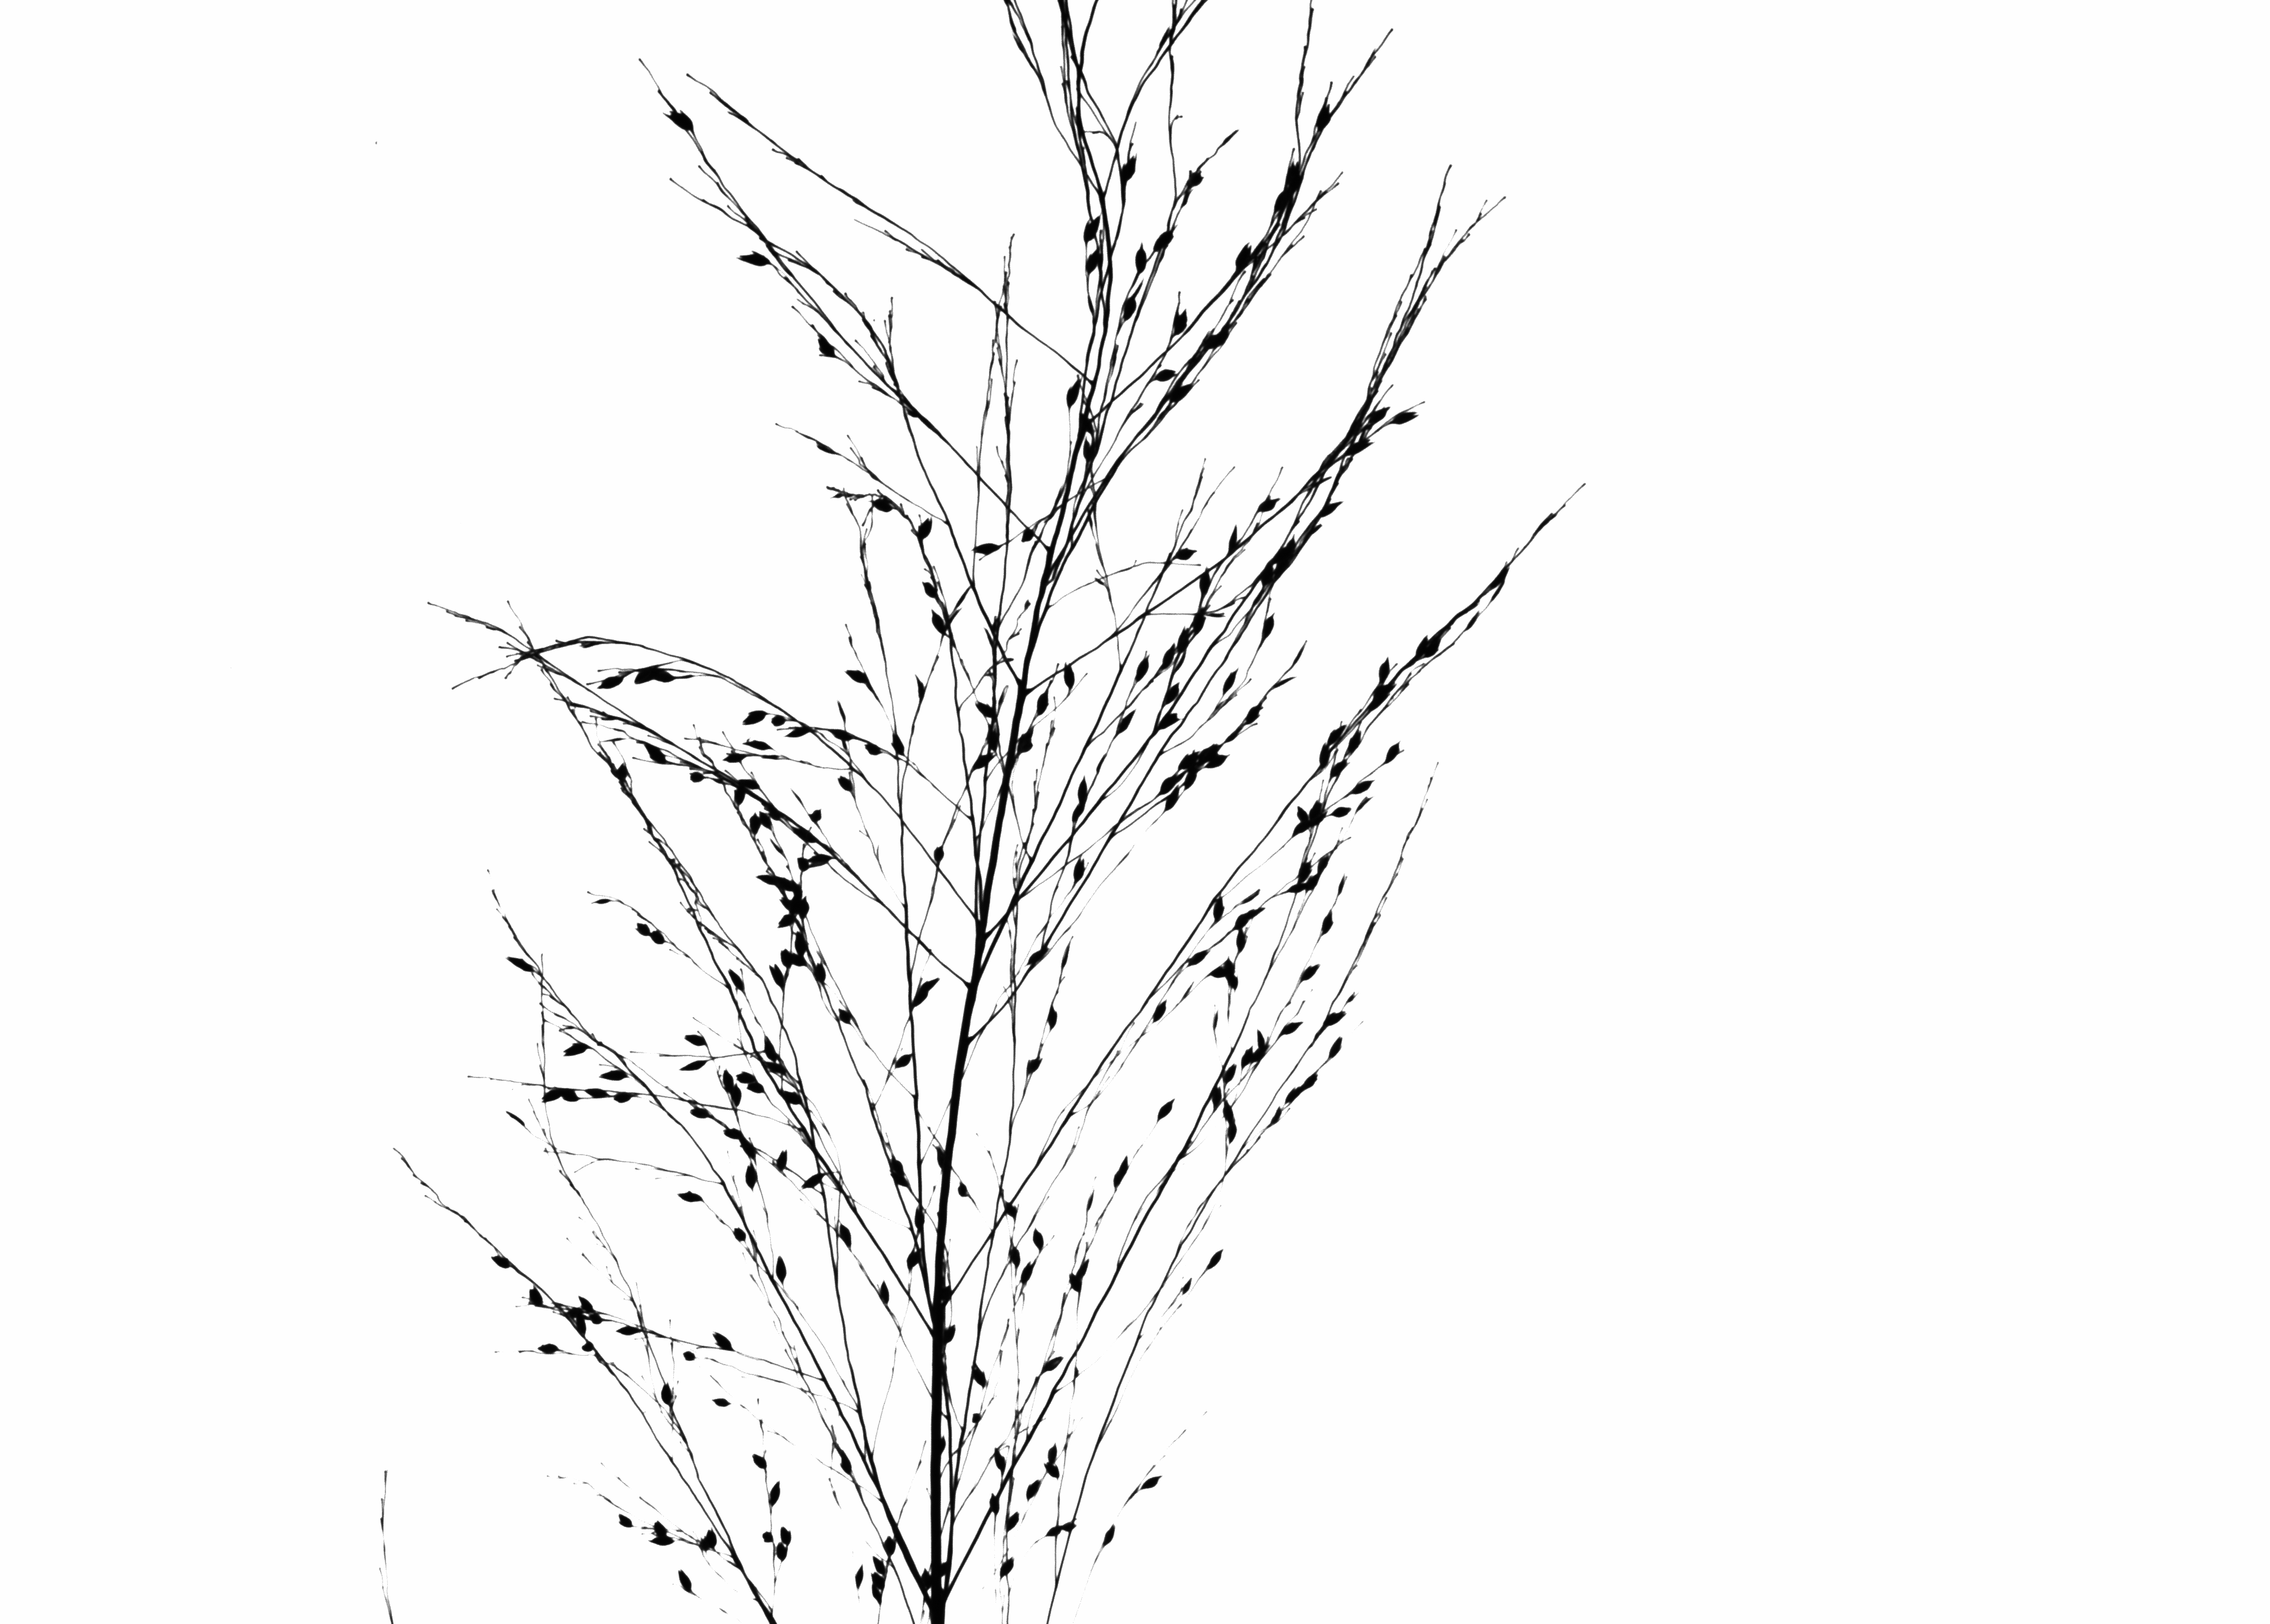seed: (907, 974, 944, 1011), (756, 872, 811, 895), (659, 105, 698, 135), (503, 951, 540, 981), (886, 1151, 911, 1193), (501, 1102, 531, 1135), (1153, 221, 1183, 253), (631, 657, 663, 687), (672, 1564, 698, 1599), (1168, 380, 1199, 408), (1064, 373, 1085, 415), (642, 738, 670, 770), (890, 1048, 921, 1076), (1233, 905, 1266, 932), (1016, 724, 1037, 765), (1080, 213, 1106, 244), (1196, 738, 1220, 772), (680, 1026, 714, 1051), (733, 250, 772, 271), (1219, 664, 1241, 700), (598, 668, 628, 694), (814, 330, 839, 362), (1366, 402, 1391, 434), (1234, 237, 1254, 276), (1284, 158, 1303, 197), (1315, 97, 1335, 135), (1259, 608, 1278, 647), (800, 1171, 828, 1197), (1261, 554, 1280, 591), (742, 735, 775, 756), (1422, 633, 1444, 666), (673, 1186, 707, 1207), (1159, 772, 1185, 798), (1270, 186, 1294, 214), (779, 946, 807, 970), (1317, 497, 1345, 522), (1371, 678, 1400, 703), (1027, 942, 1051, 970), (775, 1084, 805, 1107), (1115, 707, 1138, 736), (842, 668, 874, 689), (738, 707, 770, 728), (761, 1030, 782, 1062), (680, 1055, 712, 1076), (1155, 710, 1182, 735), (1319, 903, 1336, 940), (1280, 1018, 1306, 1042), (710, 1329, 737, 1353), (927, 608, 949, 636), (1393, 408, 1421, 431), (1155, 1095, 1178, 1123), (1113, 1151, 1129, 1192), (1120, 294, 1141, 323), (765, 961, 786, 991), (1345, 439, 1375, 460), (1085, 241, 1102, 276), (1034, 684, 1051, 719), (1059, 935, 1076, 970), (1134, 650, 1152, 685), (733, 777, 765, 796), (730, 965, 749, 997), (582, 1083, 614, 1102), (1183, 165, 1208, 190), (1187, 944, 1211, 968), (1299, 960, 1324, 984), (1255, 494, 1282, 517), (1326, 721, 1349, 747), (1229, 910, 1252, 937), (1041, 1353, 1067, 1376), (877, 1531, 900, 1557), (612, 1512, 638, 1534), (974, 700, 1002, 721), (1245, 700, 1266, 728), (967, 1362, 988, 1390), (782, 722, 816, 740), (1280, 533, 1298, 566), (742, 1160, 760, 1193), (1173, 306, 1192, 336), (1122, 153, 1141, 183), (561, 1039, 591, 1058), (1025, 1049, 1044, 1079), (658, 1376, 677, 1406), (971, 750, 995, 773), (1352, 775, 1377, 798), (747, 1448, 770, 1473), (1132, 243, 1148, 278), (1183, 765, 1201, 796), (971, 541, 1006, 557), (721, 745, 747, 766), (1160, 640, 1176, 675), (1196, 564, 1213, 596), (1030, 1225, 1048, 1257), (772, 1253, 789, 1285), (767, 1476, 782, 1512), (867, 497, 895, 517), (890, 729, 909, 758), (614, 1086, 642, 1106), (1206, 752, 1234, 772), (1162, 784, 1182, 812), (489, 1253, 517, 1272), (1060, 661, 1076, 694), (774, 1144, 789, 1178), (986, 724, 1004, 754), (1345, 726, 1363, 756), (1152, 998, 1169, 1028), (775, 910, 800, 932), (1173, 545, 1197, 566), (1226, 522, 1240, 559), (1328, 758, 1349, 782), (1139, 1473, 1164, 1494), (577, 1290, 598, 1315), (526, 1285, 547, 1309), (1078, 439, 1097, 466), (1069, 800, 1088, 826), (1294, 805, 1313, 831), (1324, 1009, 1350, 1028), (835, 1223, 855, 1250), (1292, 638, 1308, 670), (812, 958, 828, 990), (1415, 629, 1431, 661), (1101, 1520, 1117, 1552), (993, 1441, 1009, 1473), (916, 517, 934, 545), (809, 851, 837, 868), (793, 926, 811, 954), (1071, 856, 1088, 884), (1315, 849, 1333, 877), (1222, 953, 1236, 988), (1328, 1033, 1345, 1062), (1208, 1244, 1226, 1272), (999, 1554, 1016, 1582), (615, 1322, 644, 1339), (918, 578, 941, 599), (835, 773, 858, 794), (542, 1084, 564, 1106), (833, 1005, 855, 1028), (651, 1517, 672, 1540), (788, 786, 807, 810), (1078, 413, 1097, 438), (651, 664, 675, 684), (1162, 680, 1182, 705), (837, 1455, 856, 1480), (707, 1524, 719, 1562), (733, 1069, 763, 1084), (1386, 738, 1401, 768), (907, 1243, 923, 1272), (742, 1137, 760, 1164), (721, 1123, 747, 1141), (573, 1311, 591, 1338), (1152, 367, 1180, 383), (835, 694, 849, 726), (728, 1081, 744, 1109), (1377, 652, 1391, 684), (1044, 1002, 1060, 1030), (689, 1102, 712, 1121), (1238, 888, 1261, 907), (1043, 1519, 1062, 1541), (1284, 1083, 1301, 1107), (867, 1580, 884, 1605), (870, 1554, 888, 1578), (536, 1339, 561, 1357), (1270, 677, 1299, 691), (1076, 775, 1090, 805), (1222, 1097, 1236, 1127), (1254, 1026, 1268, 1056), (913, 1202, 927, 1232), (934, 1144, 948, 1174), (879, 1278, 893, 1308), (828, 724, 855, 740), (1006, 1241, 1022, 1267), (1226, 1118, 1241, 1144), (1025, 1476, 1041, 1503), (1004, 1508, 1020, 1534), (920, 1562, 935, 1589), (709, 1394, 735, 1410), (1213, 891, 1226, 924), (932, 842, 949, 865), (1305, 872, 1322, 895), (721, 1067, 735, 1095), (1234, 924, 1248, 953), (1222, 1060, 1236, 1088), (795, 854, 812, 875), (913, 673, 927, 700), (863, 738, 881, 759), (633, 921, 651, 942), (563, 1084, 580, 1106), (1002, 1199, 1020, 1220), (1298, 858, 1312, 884), (1270, 1102, 1284, 1128), (645, 1534, 680, 1545), (733, 782, 746, 812), (1208, 967, 1238, 979), (1241, 1042, 1254, 1072), (988, 1490, 1000, 1520), (758, 810, 774, 833), (1178, 624, 1189, 657), (617, 756, 629, 784), (746, 810, 760, 835), (1313, 798, 1326, 826), (1336, 870, 1349, 898), (941, 1280, 953, 1308), (944, 1322, 958, 1346), (957, 1178, 971, 1202), (1083, 1188, 1097, 1213), (1046, 1441, 1060, 1466), (1020, 526, 1037, 545), (649, 926, 666, 946), (760, 1529, 777, 1548), (772, 708, 788, 729), (1067, 1272, 1083, 1294), (855, 1559, 865, 1591), (679, 1348, 700, 1364), (798, 895, 811, 921), (1306, 1070, 1319, 1097), (1078, 1255, 1090, 1281), (1020, 1258, 1032, 1285), (1208, 1011, 1222, 1033), (1285, 881, 1308, 895), (733, 1223, 747, 1246), (775, 1541, 789, 1564), (1319, 740, 1329, 770), (782, 1520, 793, 1550), (689, 768, 707, 786), (1062, 1519, 1080, 1536), (747, 1083, 768, 1097), (589, 896, 617, 907), (1211, 1084, 1222, 1113), (1182, 1274, 1194, 1297), (1333, 803, 1350, 819), (939, 1559, 951, 1578), (939, 1431, 948, 1457), (580, 1339, 594, 1355), (812, 805, 823, 824), (971, 1413, 985, 1424)
